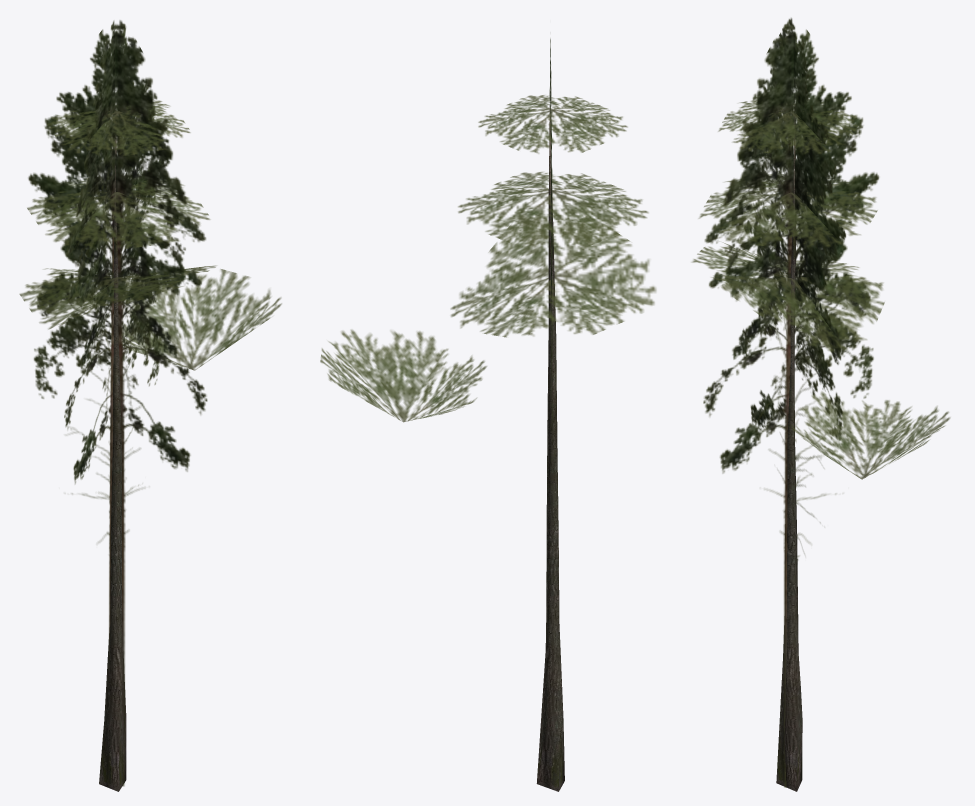
The model's file is Oak_920.gltf.
3 views of the same model, side by side, from view 1: azimuth 30°, elevation 25°; view 2: azimuth 150°, elevation 25°; view 3: azimuth 270°, elevation 25° (orthographic).
Parts seen in each view (by area): view 1: Oak_920; view 2: Oak_920; view 3: Oak_920.
Boxes of the visible parts, x1,y1,x2,y2 form: Oak_920: (19,20,281,791); Oak_920: (320,38,656,791); Oak_920: (692,18,950,791).
Bounding box in the file's own units: 12.81 × 32.93 × 10.66.
Materials: 2 (2 with a texture image).
